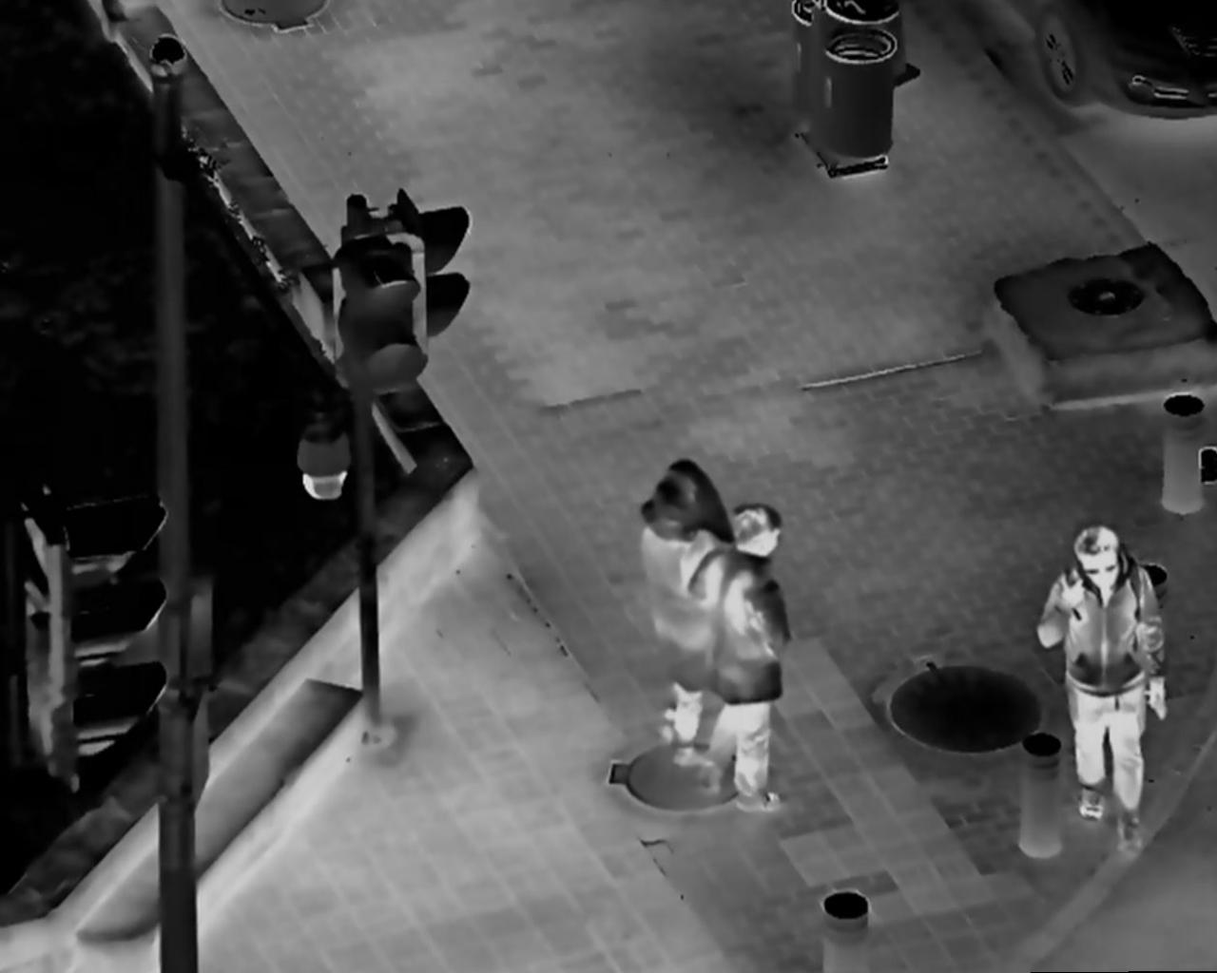person: (1035, 516, 1171, 867), (687, 502, 804, 811), (624, 451, 737, 768)
